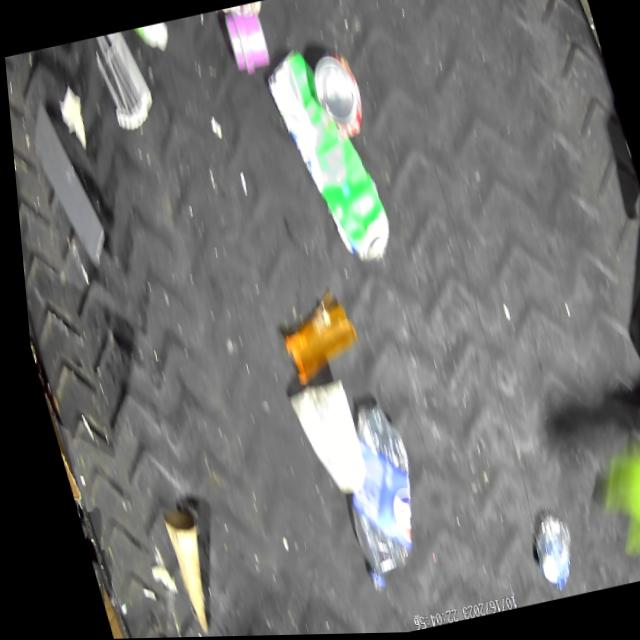plastic_bottle: (310, 392, 434, 604), (301, 39, 371, 147)
